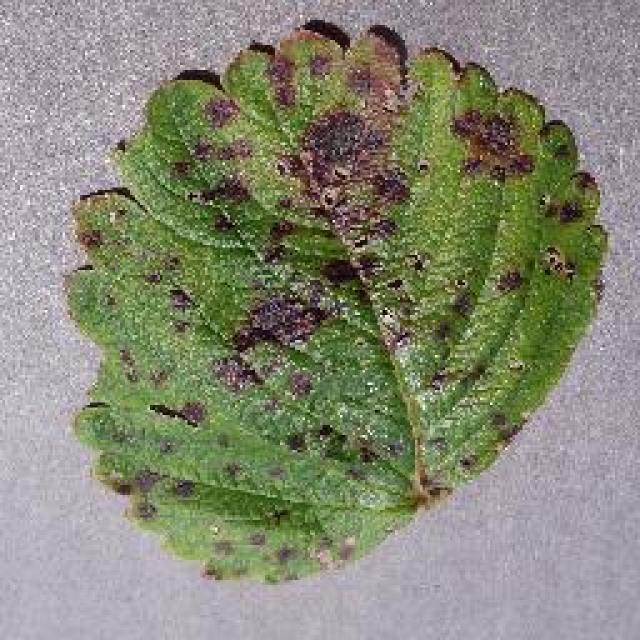Strawberry leaf scorch: (145, 102, 490, 488)
